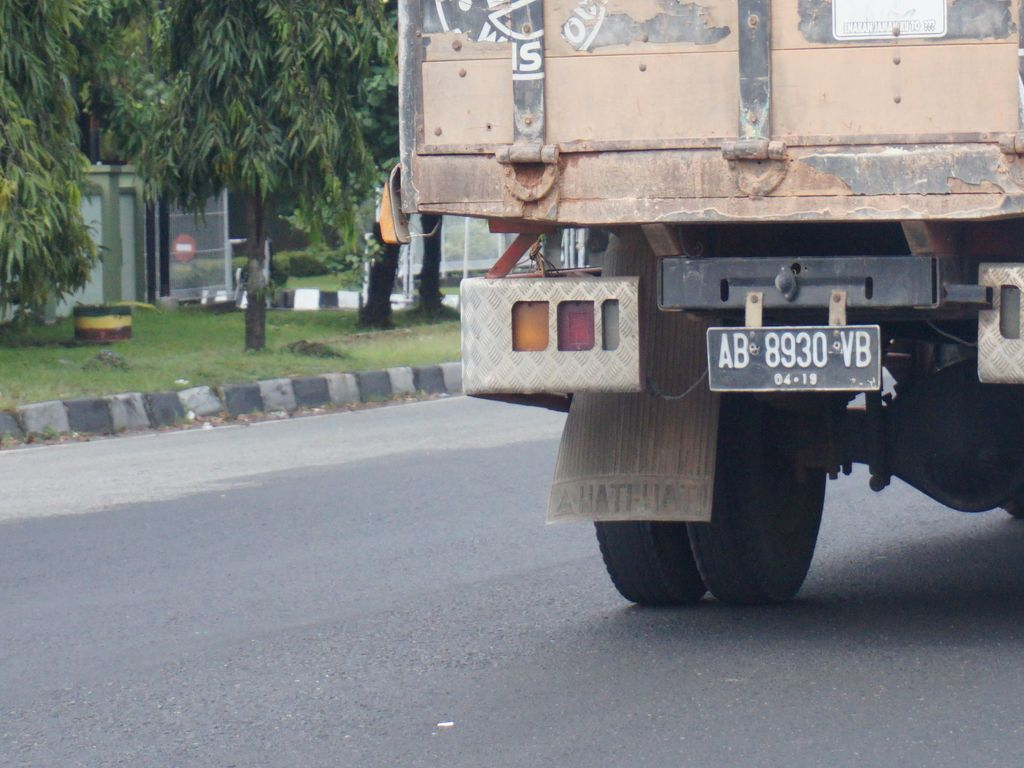plate: (714, 330, 875, 386)
